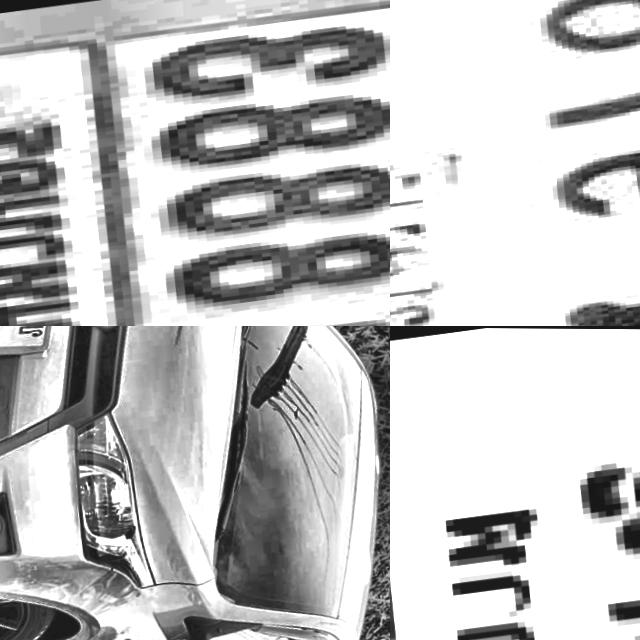license-plate: (0, 0, 390, 326), (390, 0, 640, 326), (390, 326, 640, 640)
